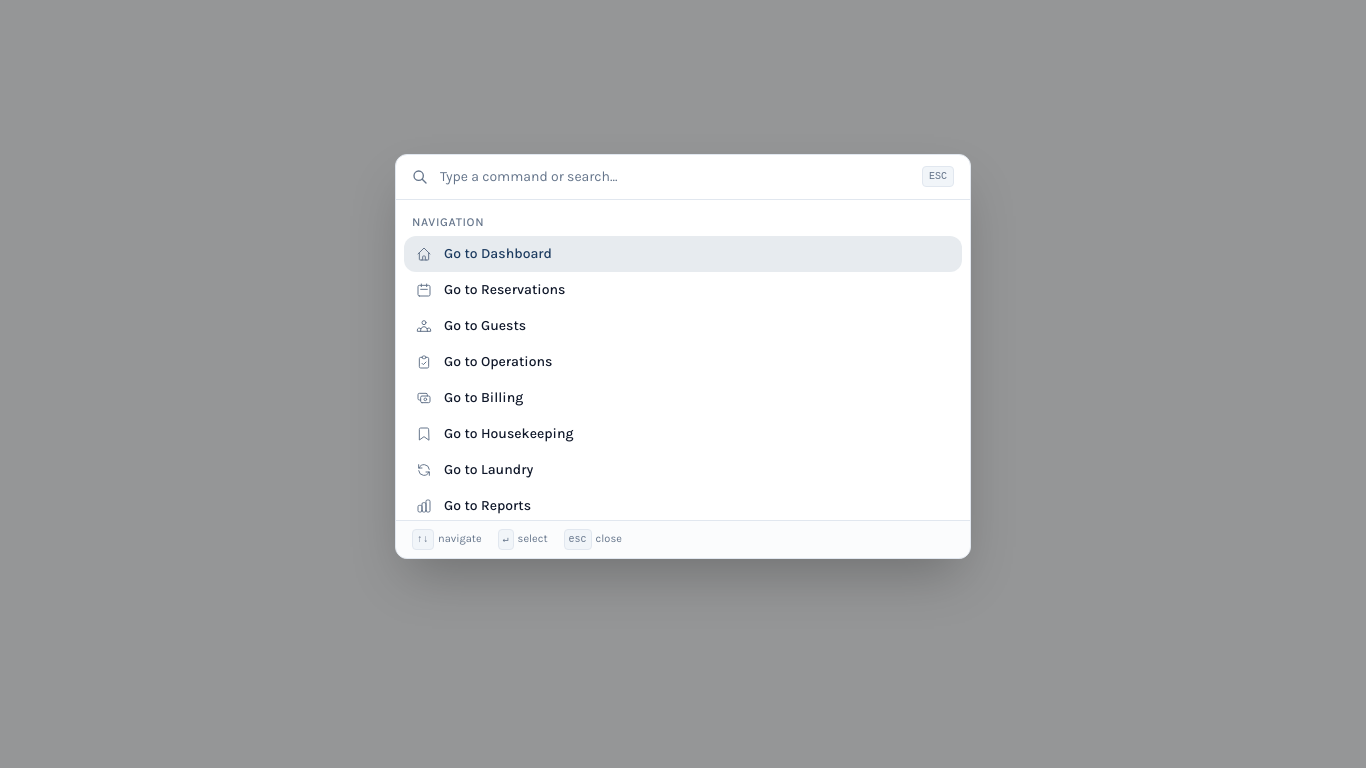
CommandPalette › shows empty state when no results match
Step 1. Type "xyznonexistent" into the field named "Search commands" → [675, 177], box [440, 155, 910, 199]
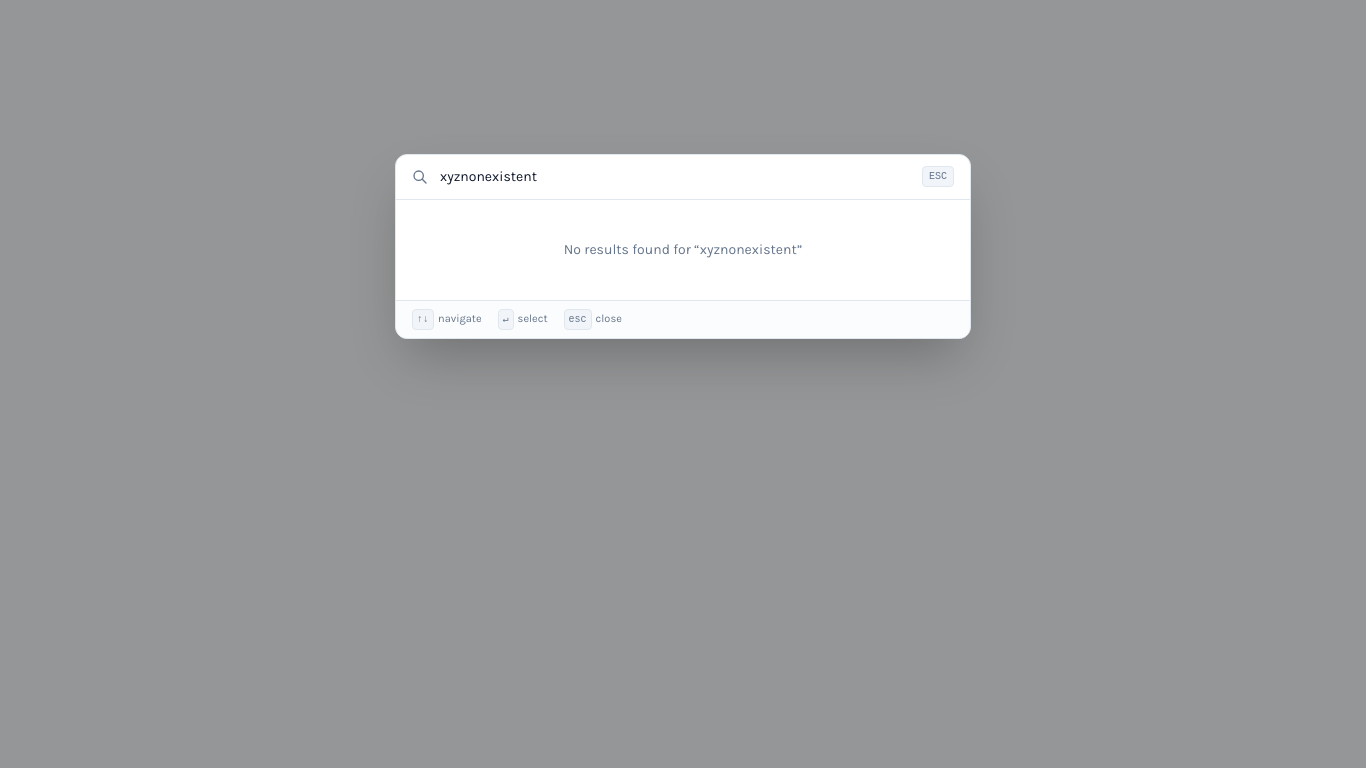
Check: the text "No results found for “xyznonexistent”" is shown, box [564, 241, 802, 258]
